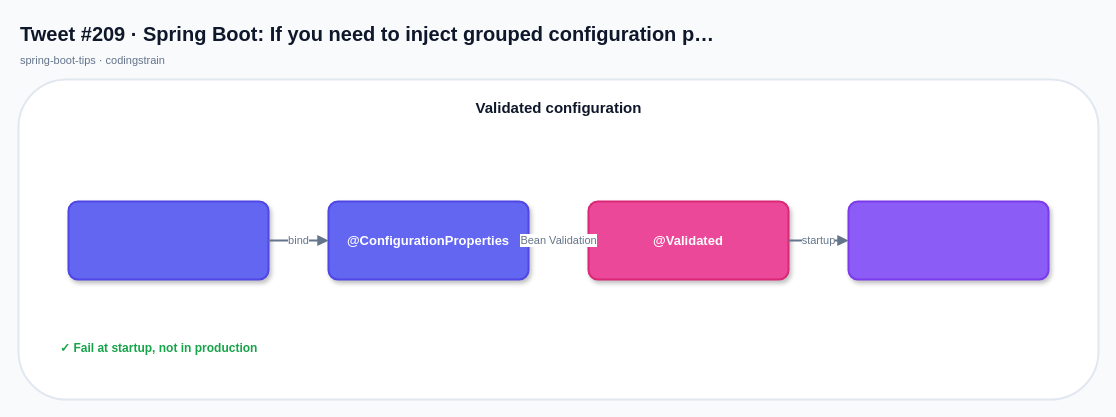
The diagram is 1116 pixels wide and 417 high, and some of its shapes have lost their labels. Here are the shapes that lost their labels. From the top down, the centre of each, then its label:
the point at 169,241: application.yml
the point at 949,241: Spring Context
